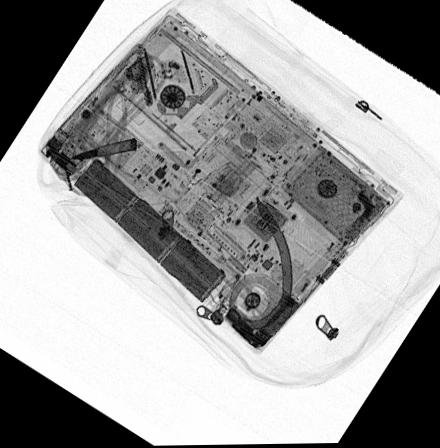Bullet: (69, 137, 136, 161)
